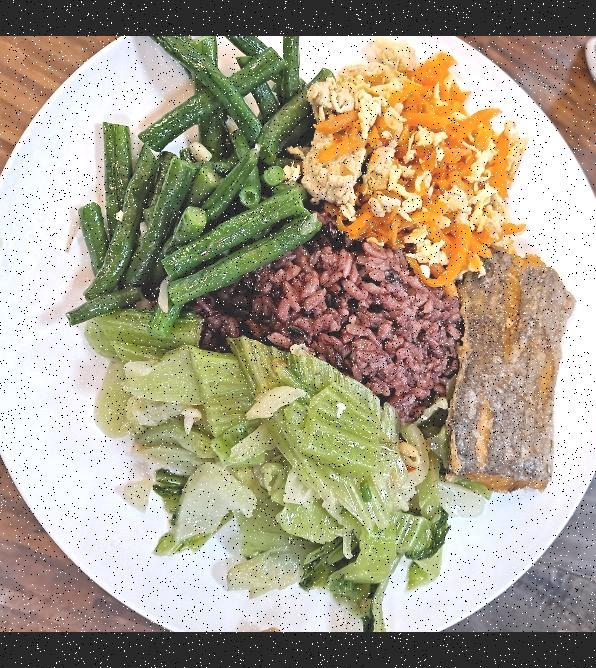pan fried fish fillet: (438, 240, 588, 500)
plate: (0, 36, 596, 632)
purple rice: (237, 220, 478, 419)
side dish: (84, 322, 456, 614), (66, 45, 328, 330), (306, 44, 534, 275)
